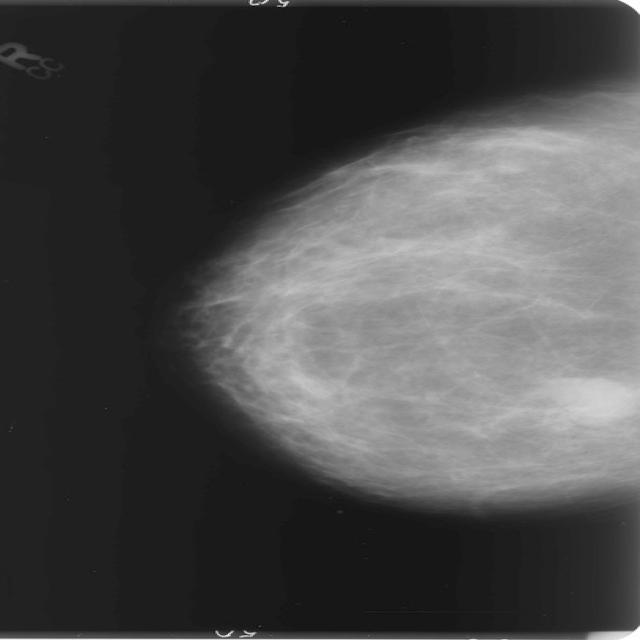tumour: (546, 376, 632, 422)
